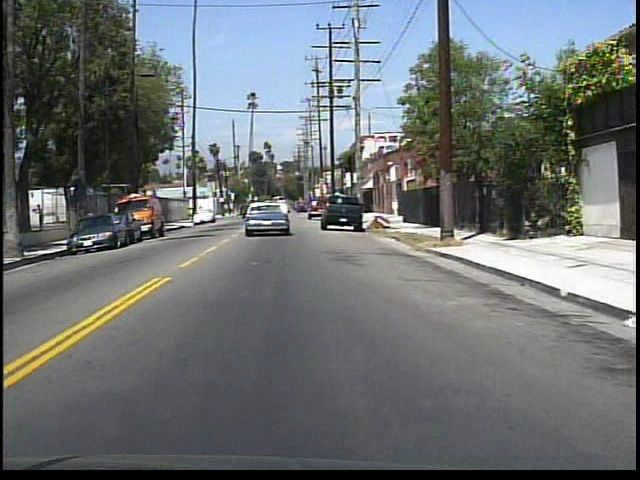person: (35, 202, 48, 231)
